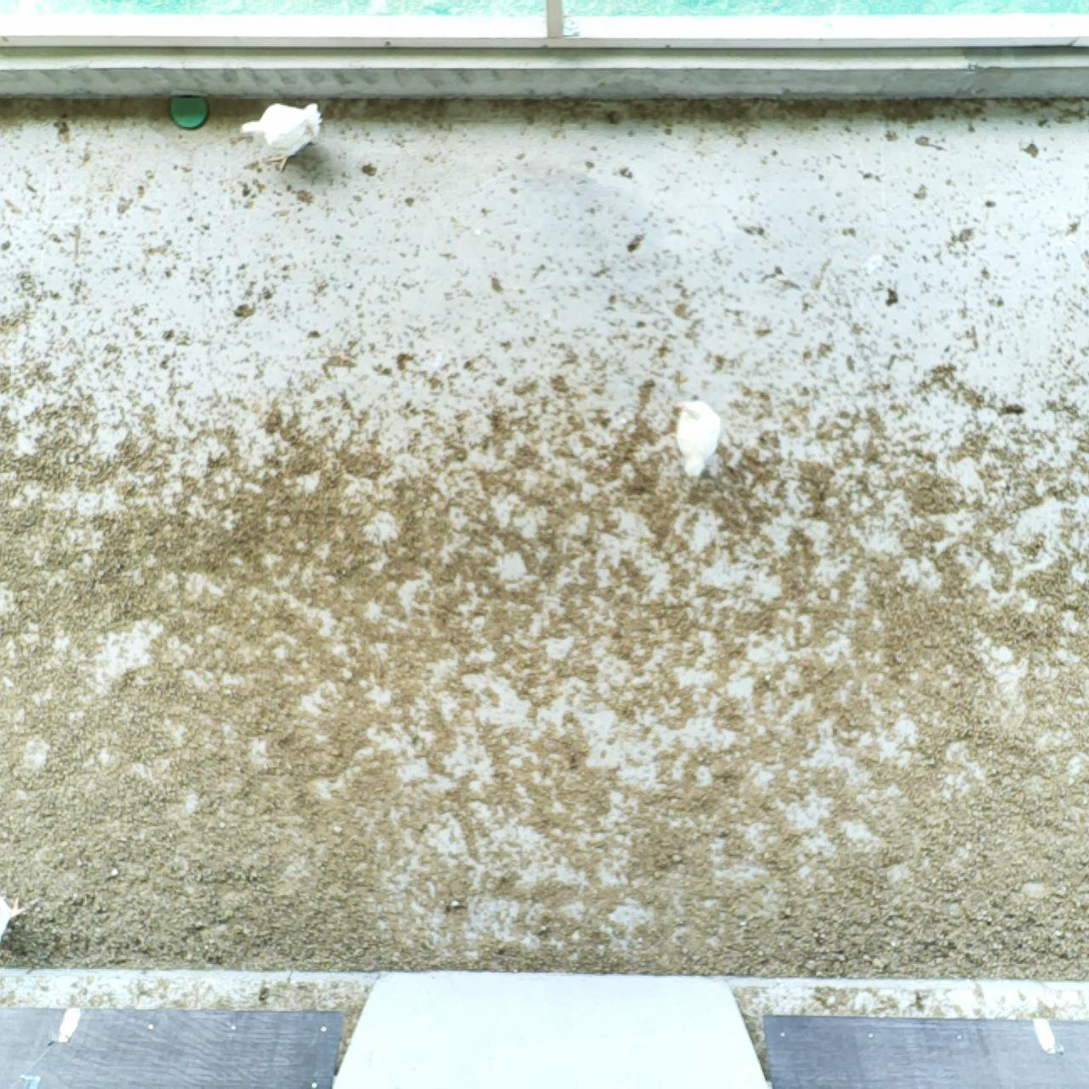chicken: (243, 98, 328, 174), (670, 395, 725, 481), (0, 887, 31, 938)
